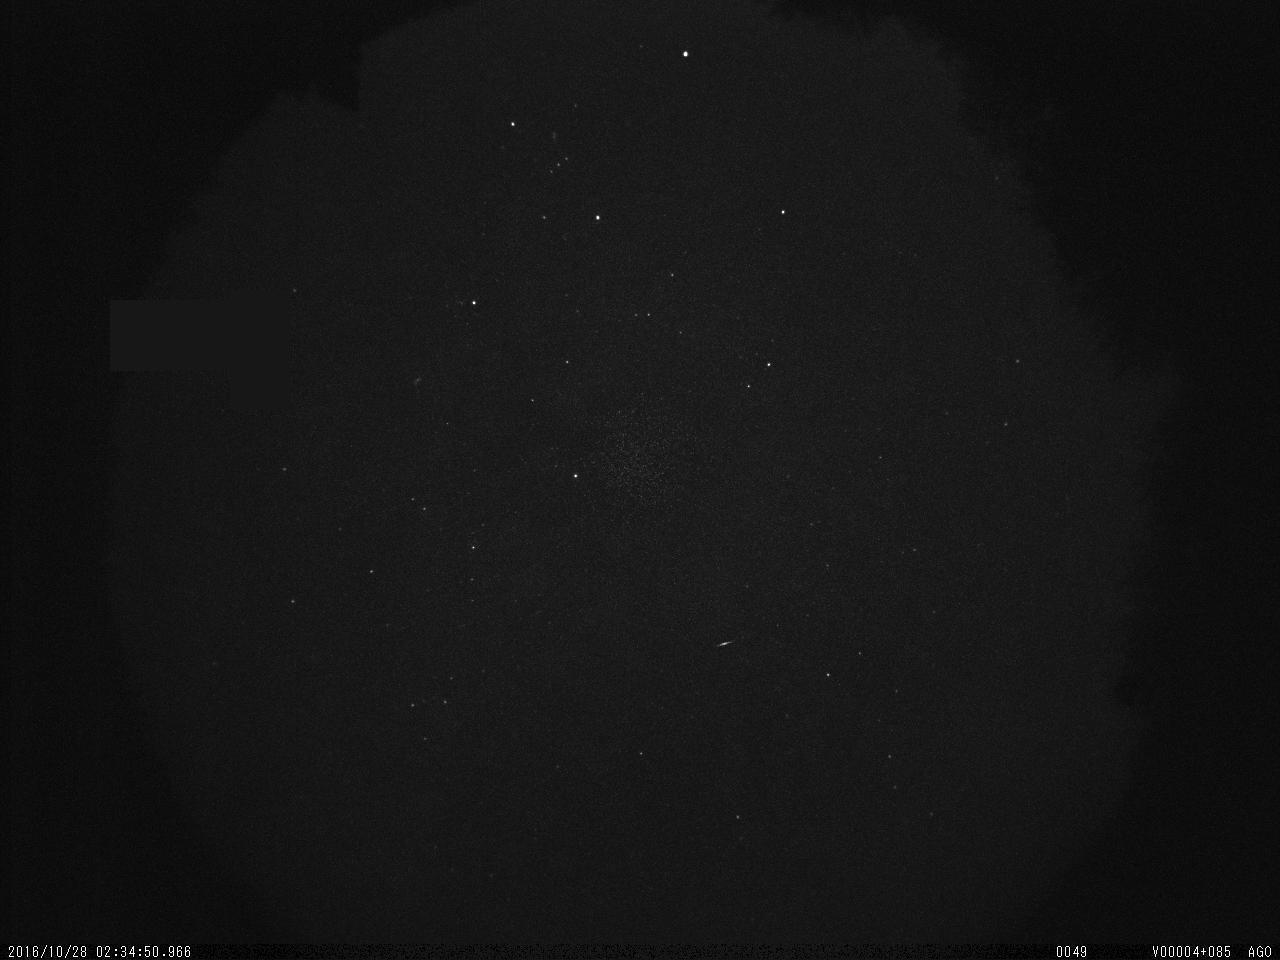Meteor: (712, 635, 738, 650)
